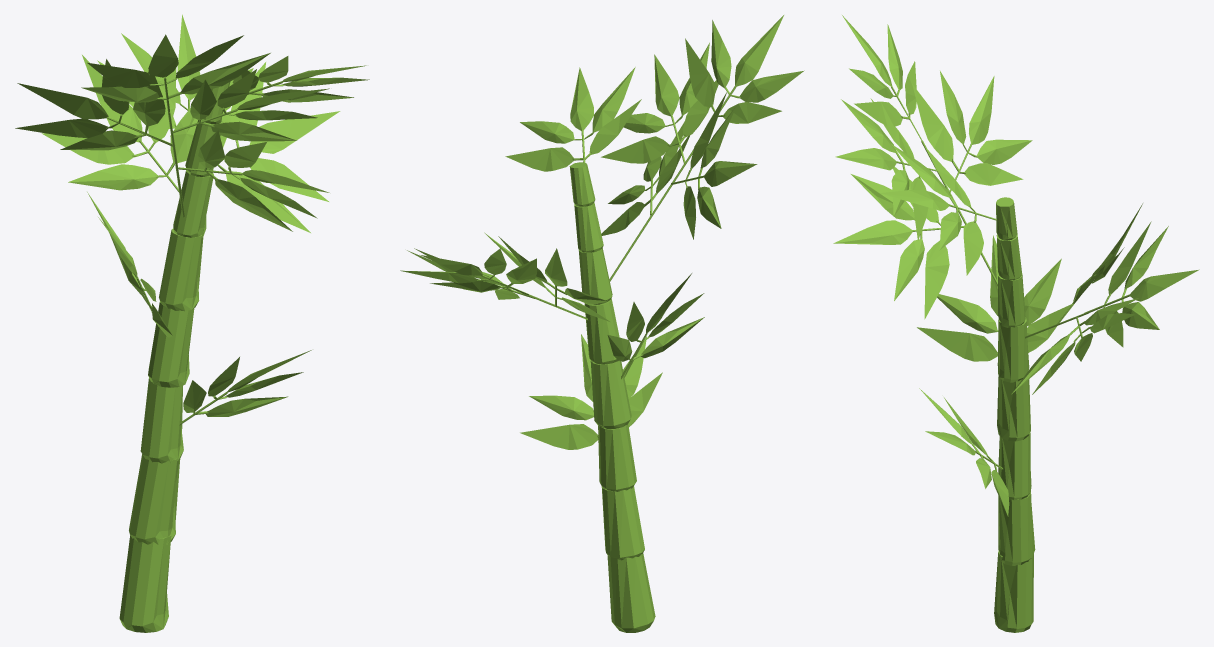
3 renders of one model, left to right at view 1: azimuth 30°, elevation 25°; view 2: azimuth 150°, elevation 25°; view 3: azimuth 270°, elevation 25°, orthographic. The views are drawn at different scales.
Parts seen in each view (by area): view 1: group1876586320, group883292421, group1274252429, group36995499, group29020316, group901067396, group476438111, group665144608, group1692411969, group616883839, group216865661, group1757659619 (+29 smaller); view 2: group1876586320, group883292421, group36995499, group1274252429, group29020316, group901067396, group921270181, group912230924, group639953294, group11453801, group1525554867, group616883839 (+18 smaller); view 3: group1876586320, group883292421, group36995499, group1274252429, group29020316, group959454963, group901067396, group579600496, group1757659619, group2144033165, group1737723111, group997440956 (+24 smaller).
Part boxes in pixels (box(x1,y1,x2,y2)): group1876586320: box(119, 535, 171, 632); group883292421: box(129, 454, 180, 544); group1274252429: box(140, 378, 183, 463); group36995499: box(148, 301, 194, 387); group29020316: box(159, 228, 203, 311); group901067396: box(173, 170, 213, 237); group476438111: box(68, 164, 158, 190); group665144608: box(249, 111, 340, 153); group1692411969: box(17, 83, 108, 119); group616883839: box(180, 53, 270, 94); group216865661: box(15, 118, 107, 138); group1757659619: box(215, 179, 292, 231); group1876586320: box(607, 553, 655, 632); group883292421: box(601, 486, 644, 560); group36995499: box(590, 360, 631, 428); group1274252429: box(598, 424, 636, 491); group29020316: box(584, 298, 619, 364); group901067396: box(578, 248, 612, 304); group921270181: box(520, 424, 598, 449); group912230924: box(574, 202, 603, 252); group639953294: box(735, 15, 783, 86); group11453801: box(601, 136, 669, 163); group1525554867: box(505, 147, 573, 171); group616883839: box(685, 38, 715, 107); group1876586320: box(994, 550, 1033, 632); group883292421: box(998, 492, 1035, 565); group36995499: box(997, 376, 1030, 441); group1274252429: box(998, 432, 1031, 500); group29020316: box(997, 317, 1029, 382); group959454963: box(917, 327, 997, 361); group901067396: box(998, 273, 1025, 327); group579600496: box(833, 220, 912, 244); group1757659619: box(924, 240, 949, 319); group2144033165: box(912, 84, 953, 161); group1737723111: box(937, 294, 997, 333); group997440956: box(1024, 258, 1061, 326).
Bounding box in the file's own units: 0.8108 × 1.42 × 0.8149.
